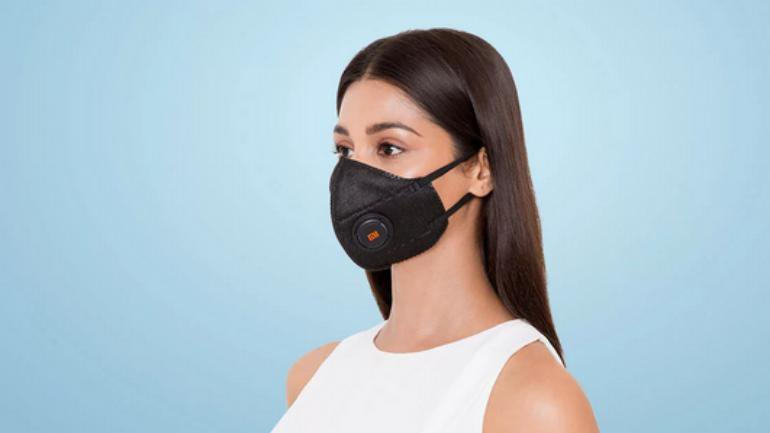mask: (314, 29, 529, 297)
